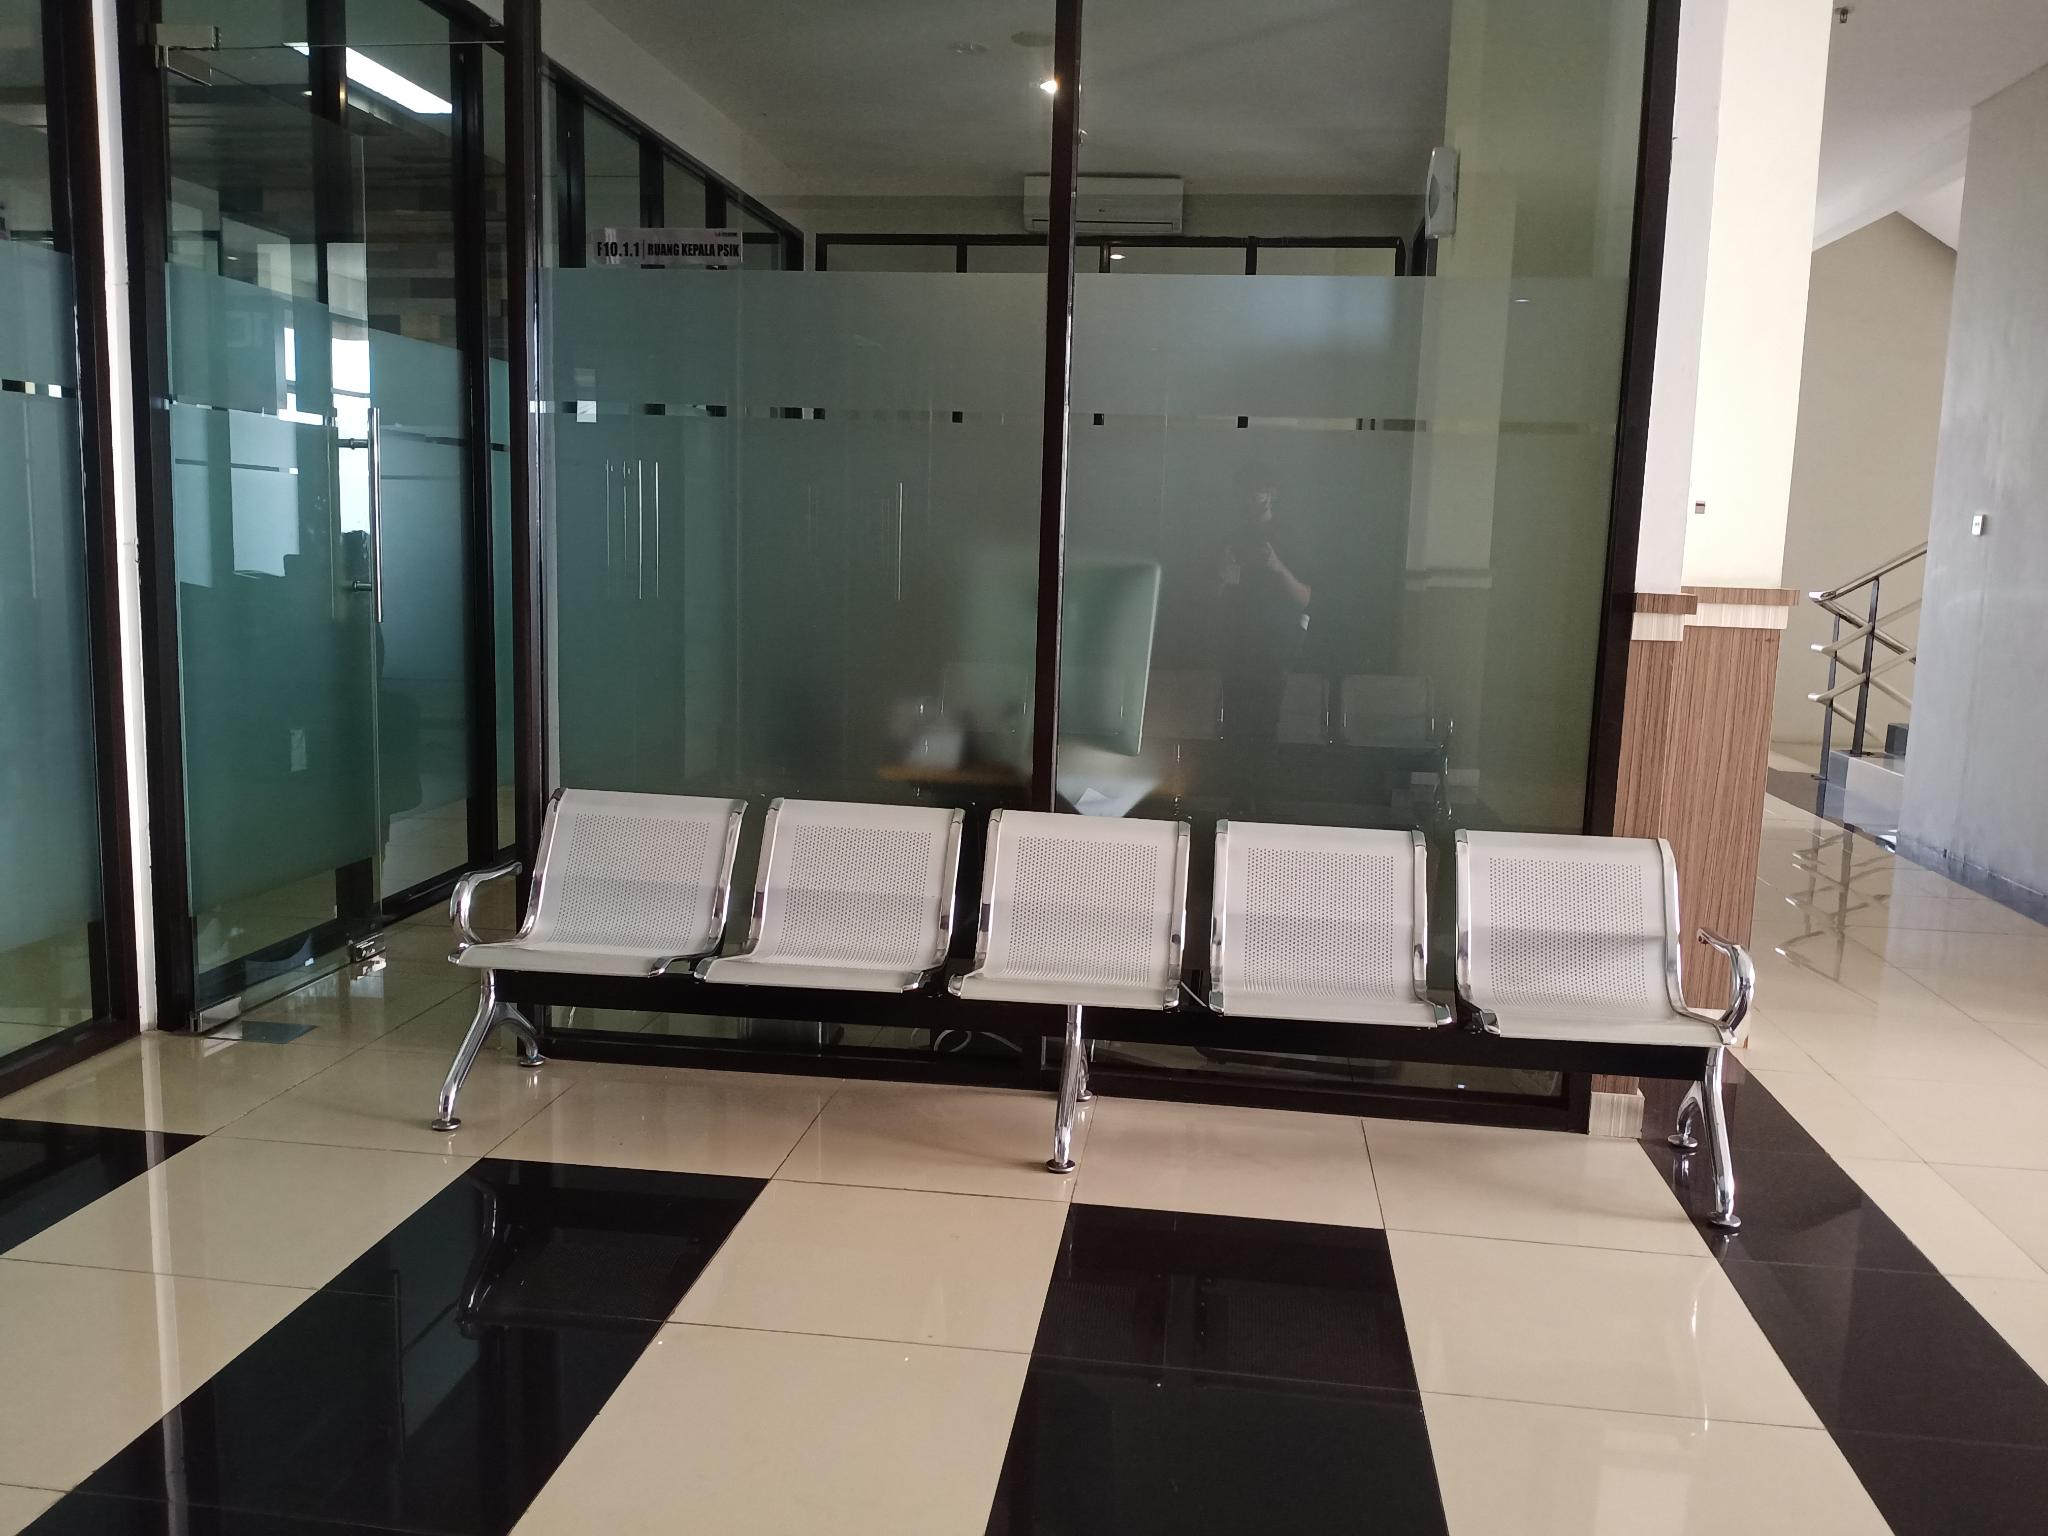plate: (589, 226, 743, 268)
